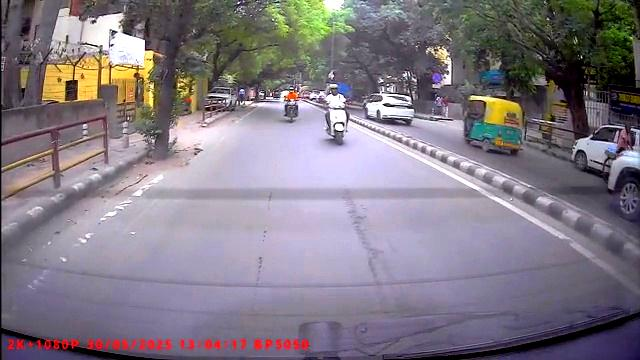motorcycle_with_helmet: (322, 82, 350, 146), (282, 85, 300, 124)
